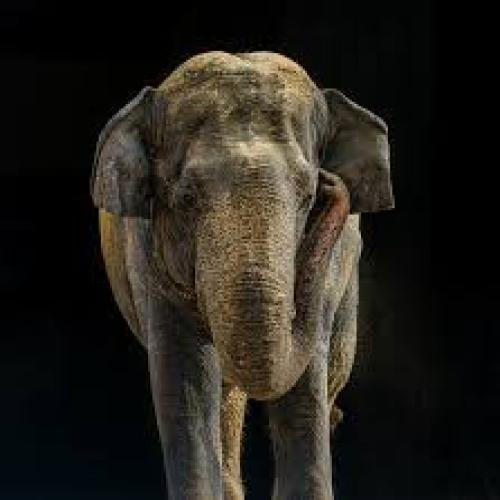asian_elephant-endangered: (90, 51, 395, 500)
